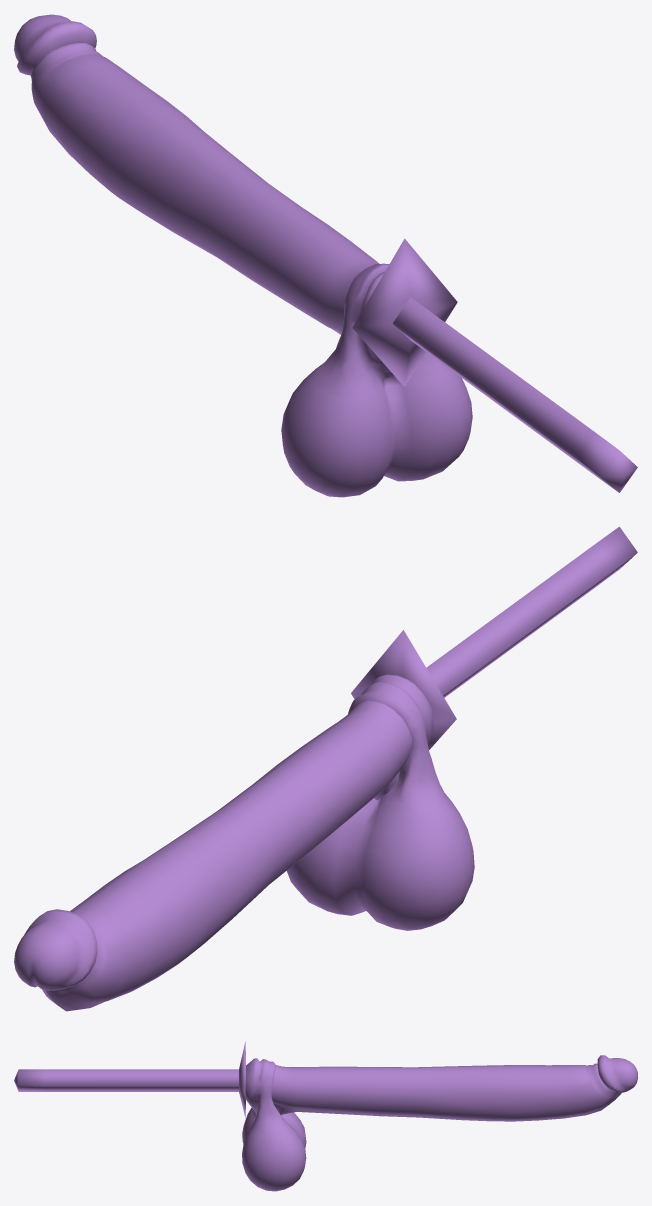
The model's file is t3-level3.glb.
3 views of the same model, one above another, from view 1: azimuth 30°, elevation 25°; view 2: azimuth 150°, elevation 25°; view 3: azimuth 270°, elevation 25° (orthographic). The views are drawn at different scales.
Parts seen in each view (by area): view 1: Object_2; view 2: Object_2; view 3: Object_2.
Part boxes in pixels (x1=…): Object_2: x1=14, y1=14, x2=637, y2=497; Object_2: x1=14, y1=526, x2=637, y2=1011; Object_2: x1=14, y1=1041, x2=637, y2=1191.
Bounding box in the file's own units: 0.3044 × 0.4484 × 1.81.
